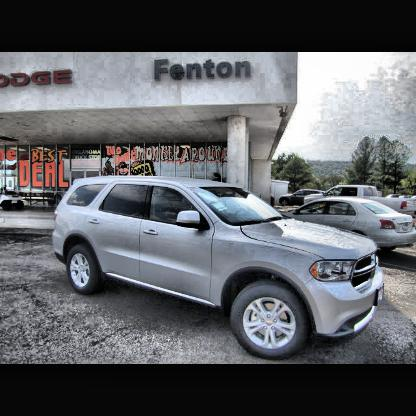Dodge Durango SUV 2012: (53, 177, 388, 362)
